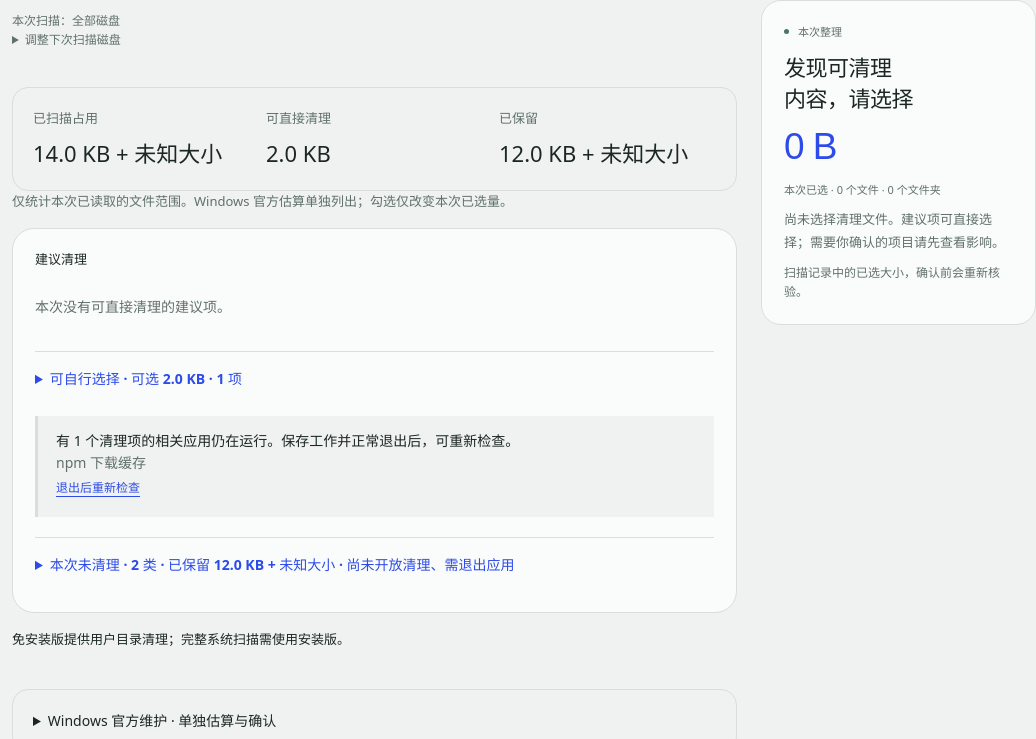
Test: offers developer remnants for explicit selection without counting running tools or readonly files
Click the heading "可自行选择 · 可选 2.0 KB · 1 项": (146, 379) [50, 369, 242, 388]
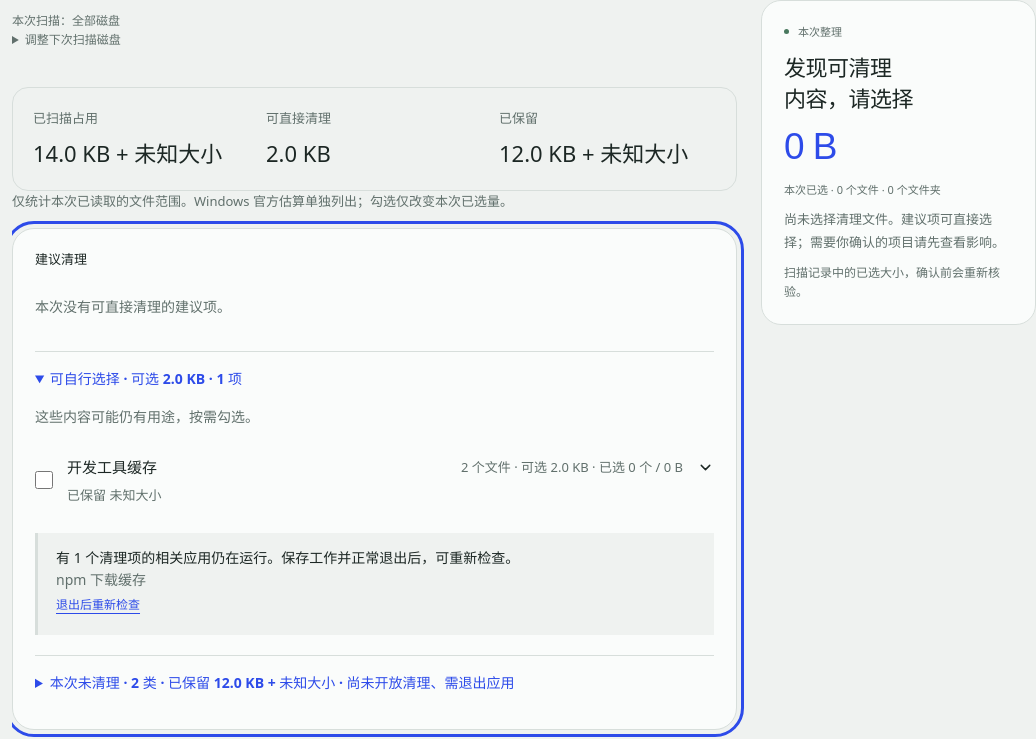
Expected: the checkbox named "选择开发工具缓存可自行选择项" is not checked
Click the checkbox named "选择开发工具缓存可自行选择项": (44, 480) [35, 472, 53, 490]
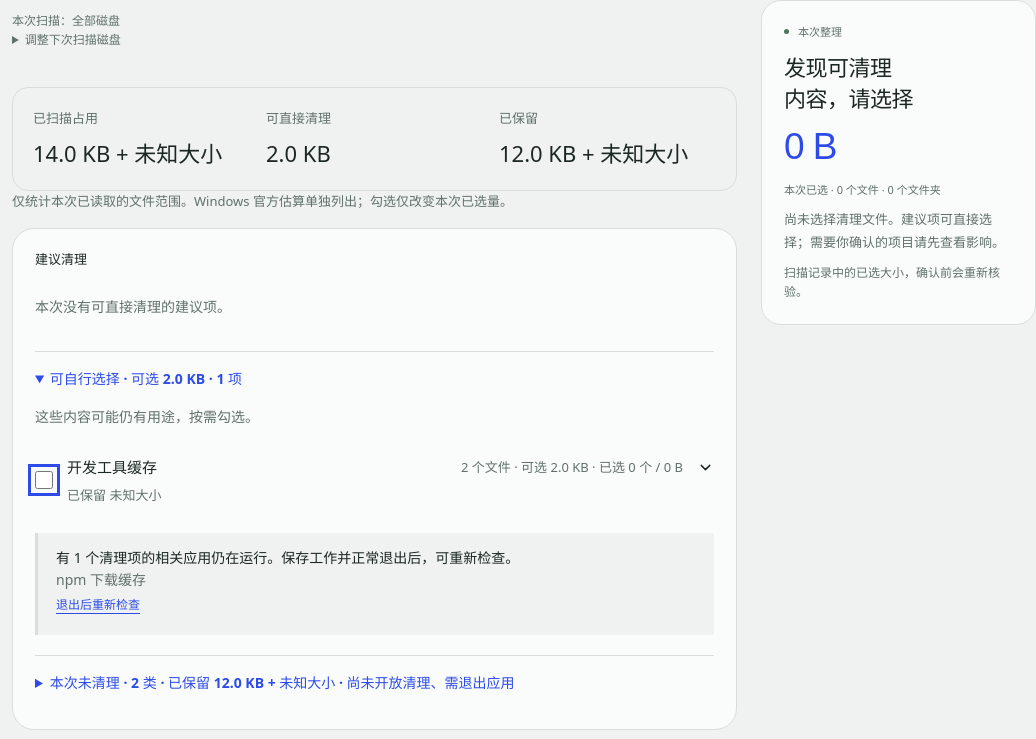
Click the button with aria-label "查看开发工具缓存可自行选择项": (112, 467) [67, 438, 714, 523]
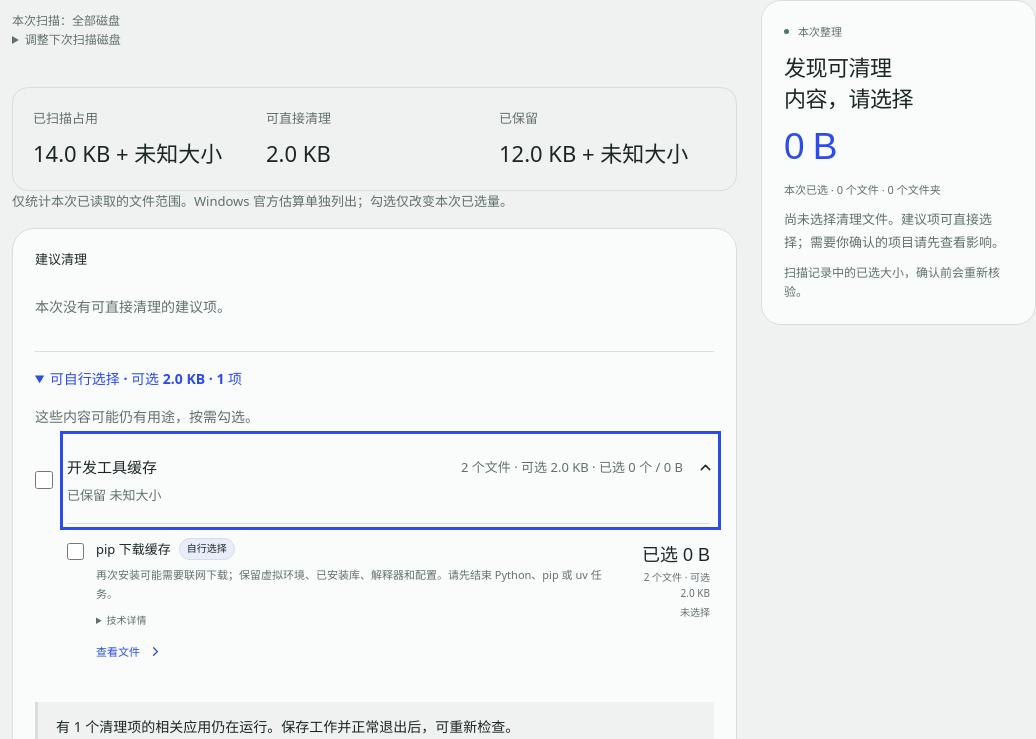
Expected: the text "pip 下载缓存" is shown, [96, 539, 171, 559]
